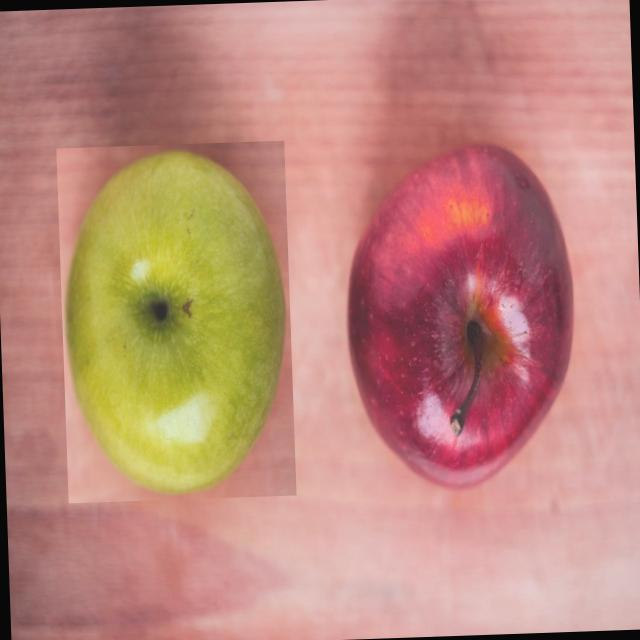Green Apple: (66, 149, 287, 495)
Red Apple: (346, 142, 575, 489)
